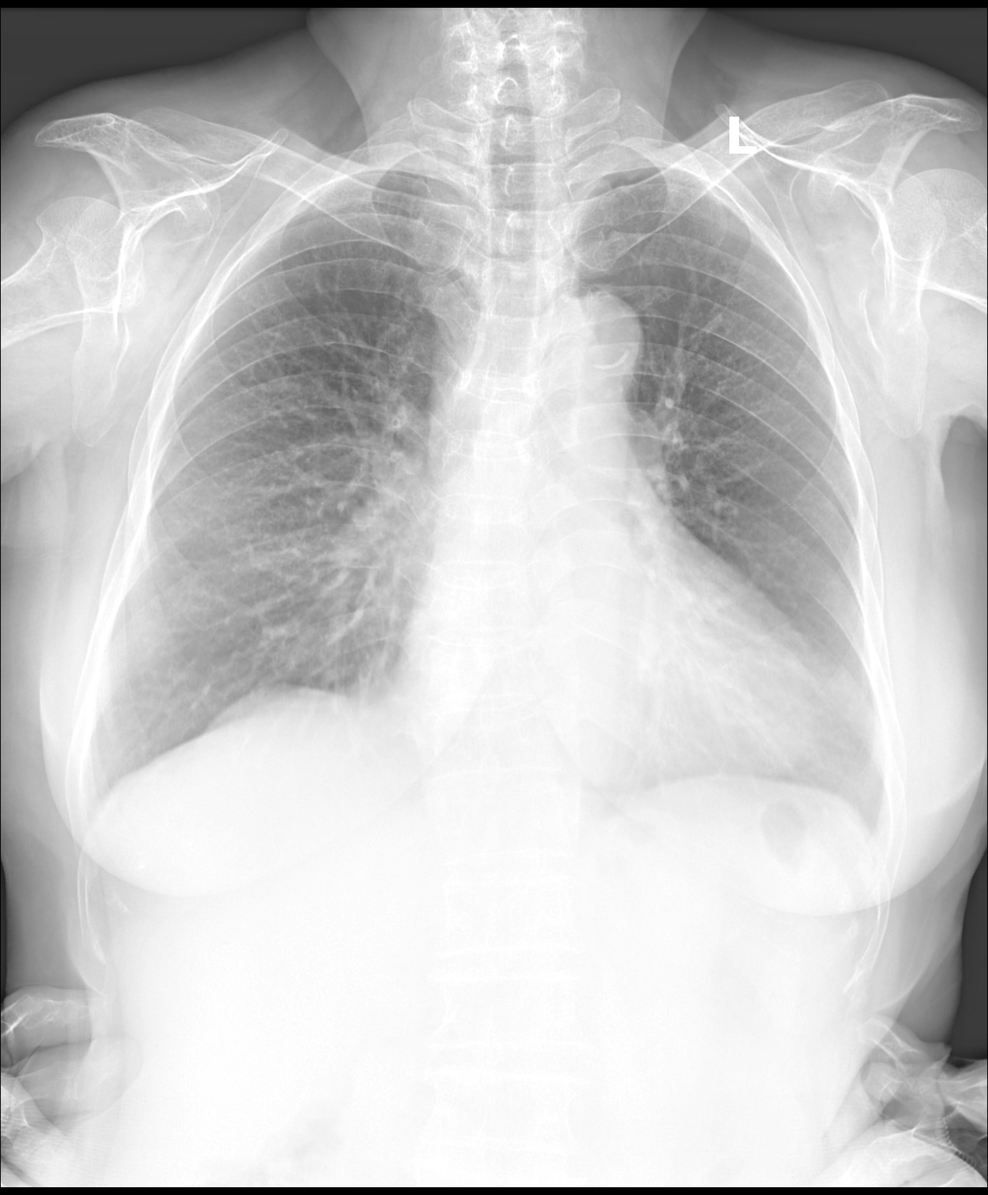Aortic enlargement: (529, 297, 641, 389)
Cardiomegaly: (384, 620, 833, 784)
